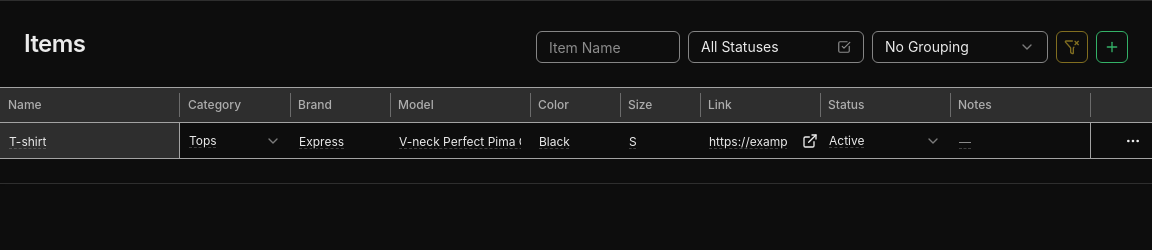
WardrobeItemsGrid › duplicates a row from the row actions menu
Later steps or results of the test are not shown.
Click the button named "Actions for T-shirt". click: (1133, 141)
box: top-left (1119, 127), bottom-right (1147, 155)
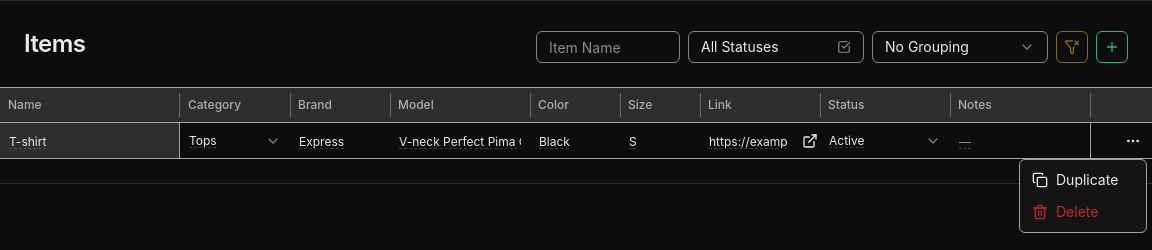
Now the menu item "Duplicate" is shown, box top-left (1032, 171), bottom-right (1118, 188)
